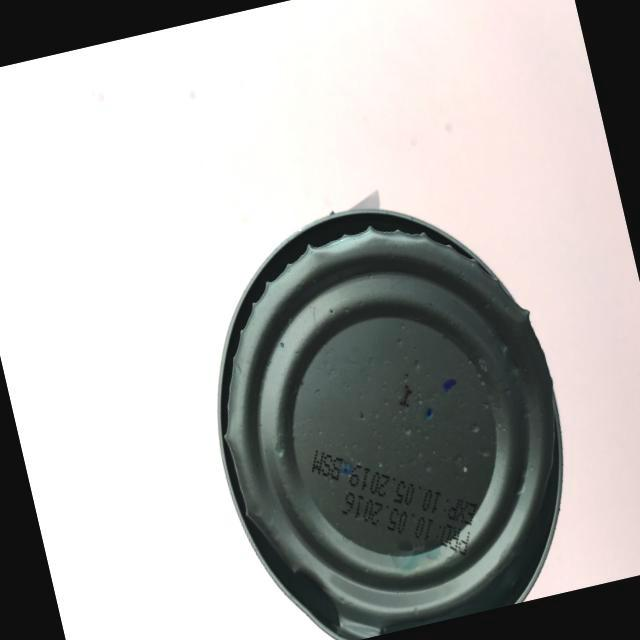metal: (153, 131, 636, 640)
